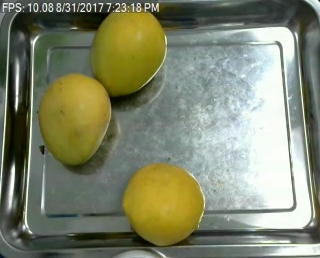Mango: (89, 4, 168, 96), (35, 75, 110, 166), (123, 163, 203, 244)
